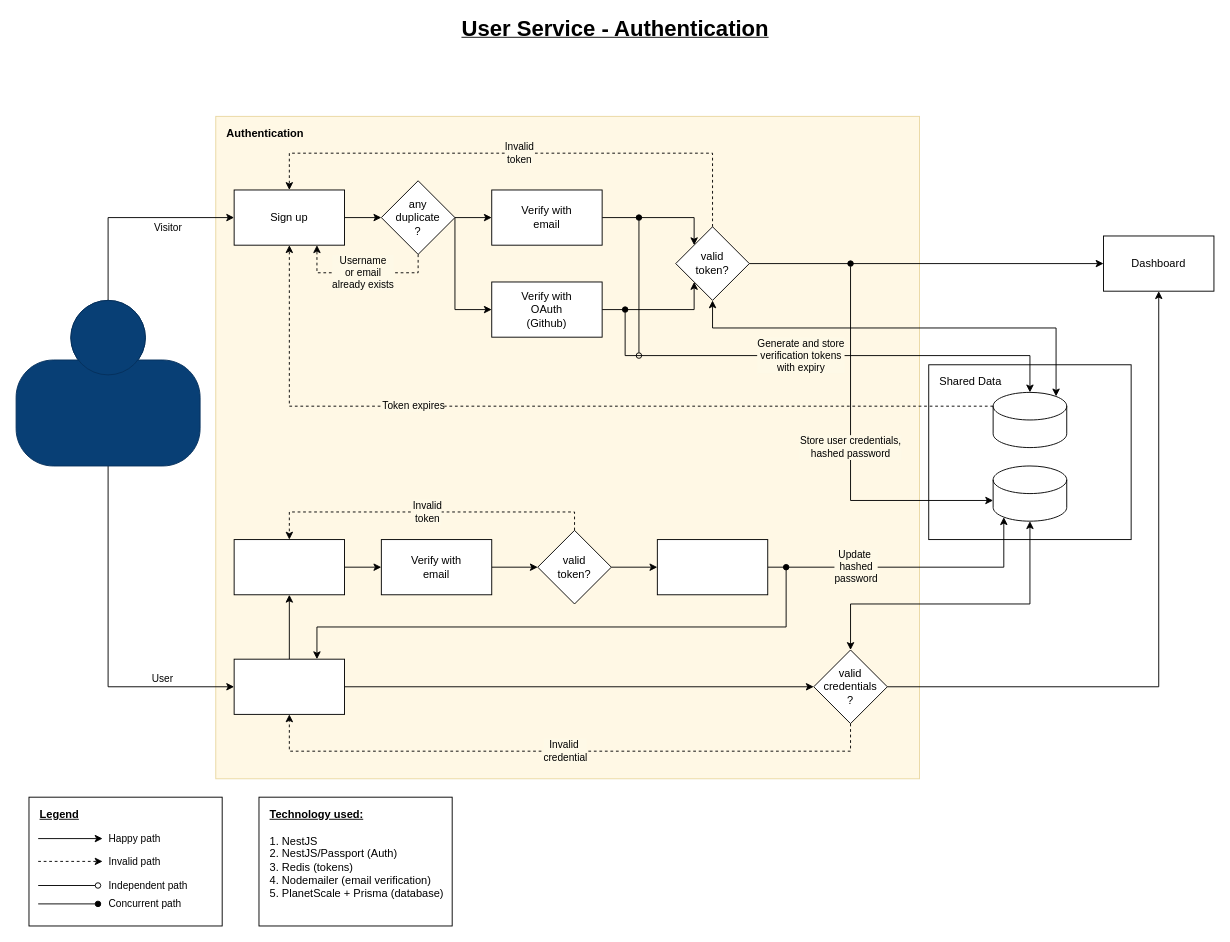
This 1230x942 diagram has some shape labels left out. Here are the shapes that lost their labels. From the top down, the centre of each, then its label:
At point 107,382: "Visitor/User [Person] Visitor -> No account User -> Has account".
At point 1029,419: "Redis".
At point 1029,493: "Planetscale".
At point 289,567: "Forget password".
At point 712,567: "Set new password".
At point 289,686: "Login".
